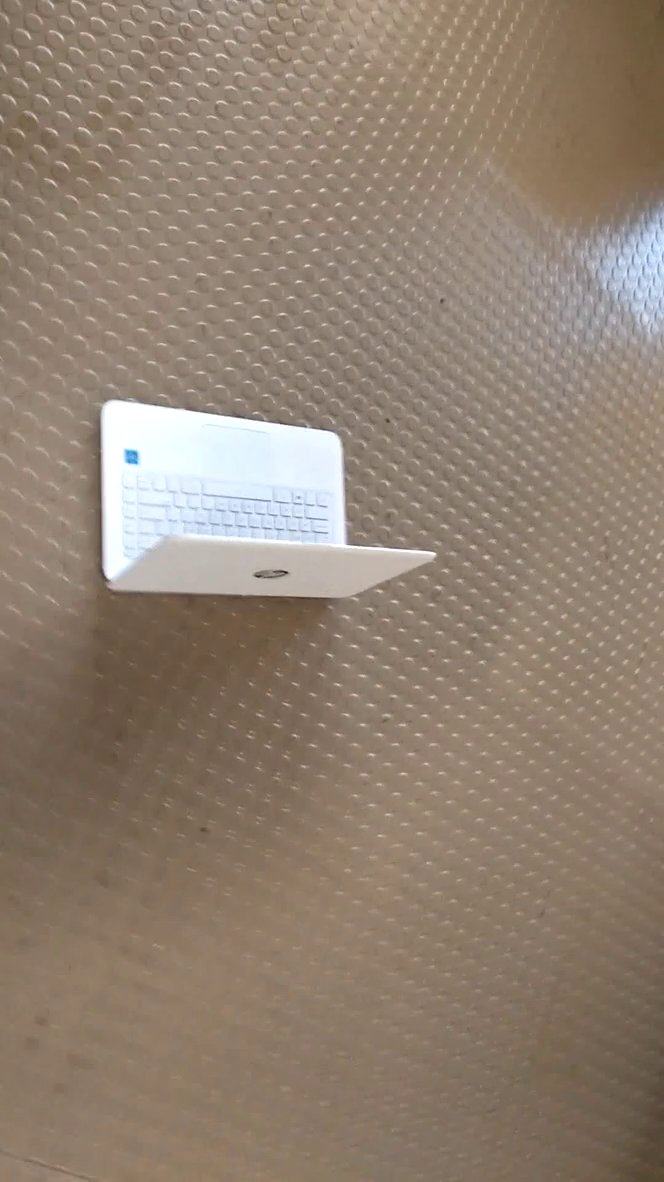laptop: (85, 387, 441, 613)
